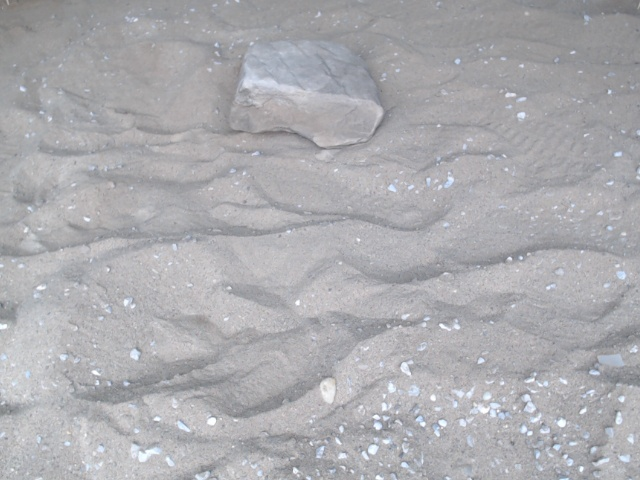rock: (222, 31, 393, 158)
